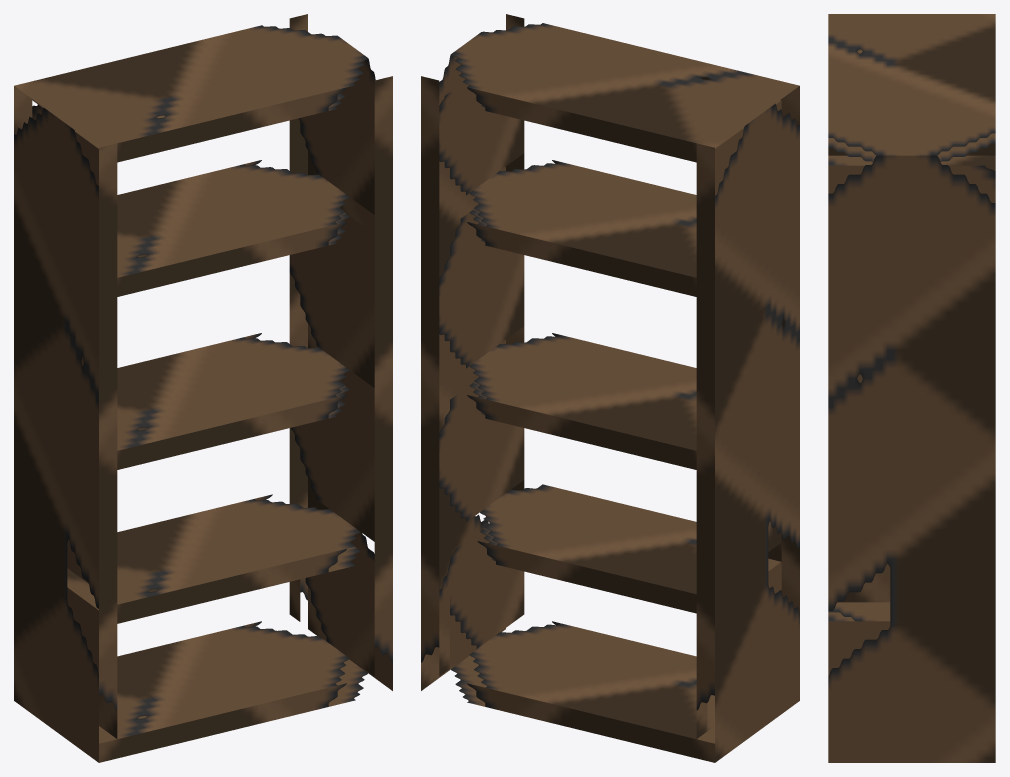
Rendered from Estante.obj.
3 views of the same model, side by side, from view 1: azimuth 30°, elevation 25°; view 2: azimuth 150°, elevation 25°; view 3: azimuth 270°, elevation 25° (orthographic).
Parts seen in each view (by area): view 1: Model; view 2: Model; view 3: Model.
Boxes of the visible parts, x1=… form: Model: x1=14, y1=14, x2=392, y2=762; Model: x1=421, y1=14, x2=799, y2=762; Model: x1=828, y1=14, x2=995, y2=762.
Bounding box in the file's own units: 16 × 32 × 8.
Materials: 1 (1 with a texture image).
